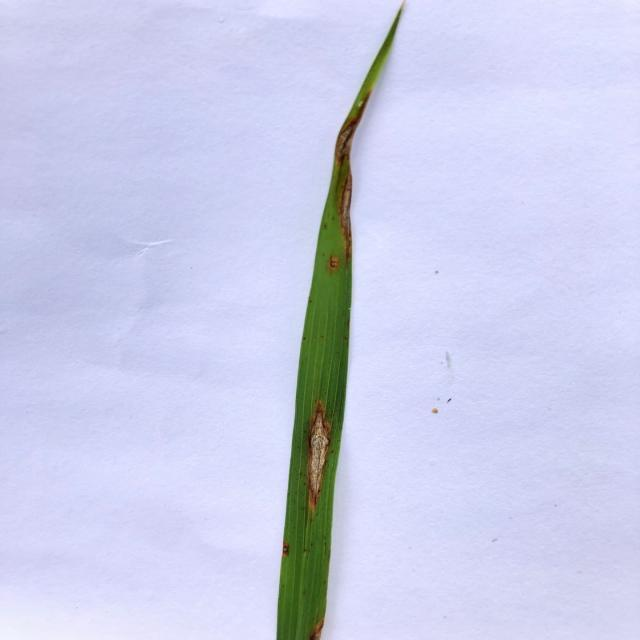Leaf_Blast: (322, 66, 378, 282), (295, 397, 335, 513), (296, 611, 330, 639), (320, 245, 341, 274)
